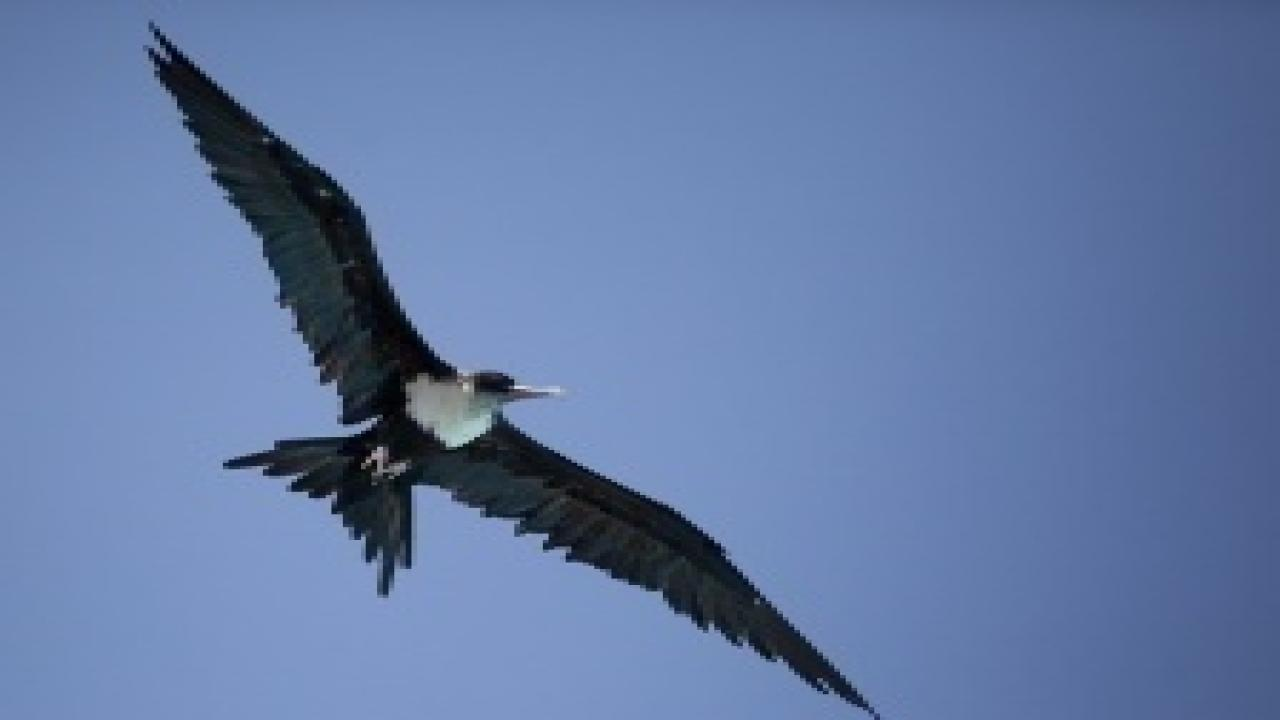Bird: (105, 12, 899, 720)
